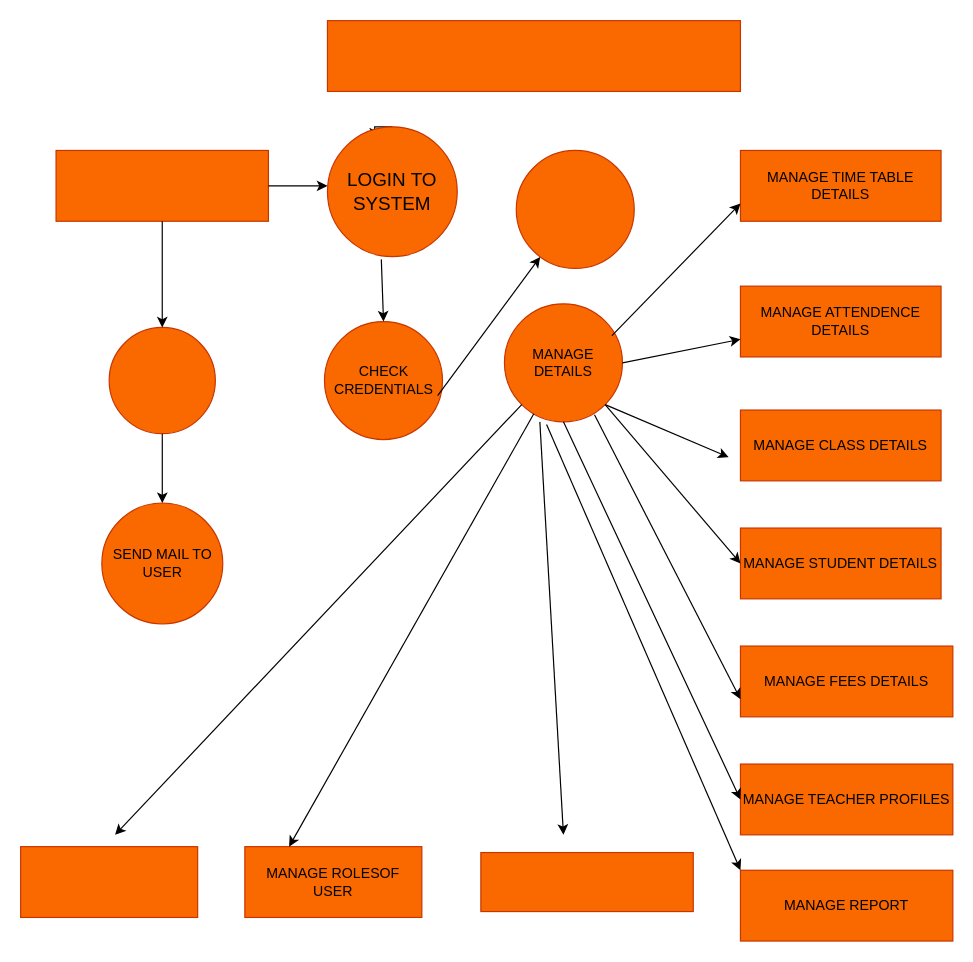
The diagram is 973 pixels wide and 962 high, and some of its shapes have lost their labels. Here are the shapes that lost their labels. From the top down, the centre of each, then its label:
At (533,55): "STUDENT INFORMATION SYSTEM".
At (161,185): "ADMIN".
At (574,208): "CHECK ROLES OF ACCES".
At (161,380): "FORGOT PASSWORD".
At (108,881): "MANAGE SYSTEM ADMINS".
At (586,881): "MANAGE USER PERMISSION".
